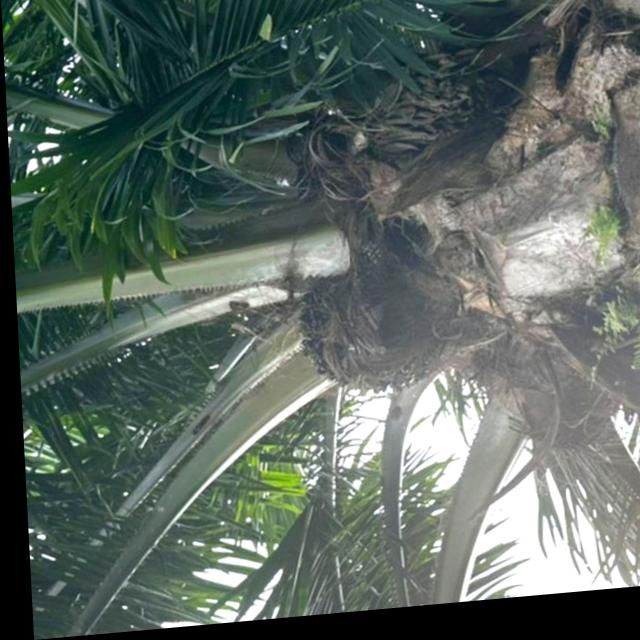unripe: (275, 257, 445, 416)
